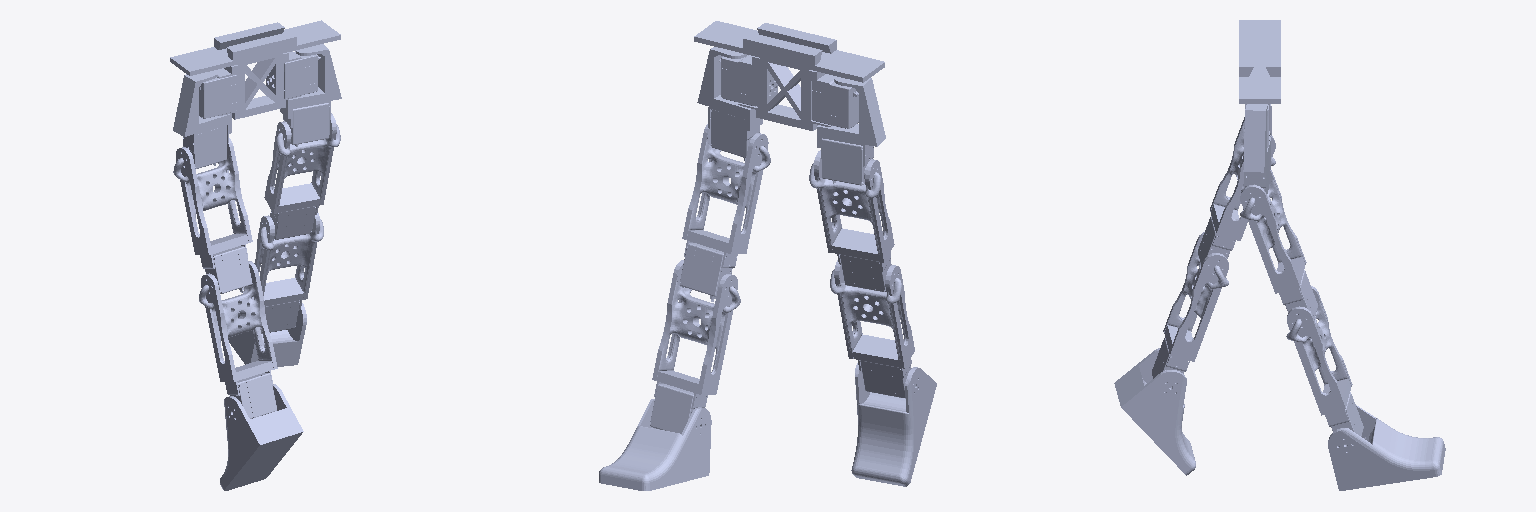
robot.urdf — bi_urdf:
<?xml version='1.0' encoding='utf-8'?>
<robot name="bi_urdf">
  <!-- ================= BASE ================= -->
  <link name="base_link">
    <inertial>
      <origin xyz="0.0567114891561859 0.0849439592220373 0.149421333987205" rpy="0 0 0"/>
      <mass value="0.171395163597277"/>
      <inertia ixx="8.15294272941173E-05" ixy="-2.02031529968215E-08" ixz="5.98391970806169E-12"
               iyy="0.000138818427725874" iyz="1.25115494357392E-20" izz="0.000195580300315273"/>
    </inertial>
    <visual>
      <origin xyz="0 0 0" rpy="0 0 0"/>
      <geometry><mesh filename="package://bi_urdf/meshes/base_link.STL"/></geometry>
      <material name=""><color rgba="0.792156862745098 0.819607843137255 0.933333333333333 1"/></material>
    </visual>
    <collision>
      <origin xyz="0 0 0" rpy="0 0 0"/>
      <geometry><mesh filename="package://bi_urdf/meshes/base_link.STL"/></geometry>
    </collision>
  </link>

  <!-- ================= LEFT LEG ================= -->
  <link name="ll1">
    <inertial>
      <origin xyz="-0.0331301764718445 0.0059934631782641 0.00079947811355896" rpy="0 0 0"/>
      <mass value="0.0590705733476927"/>
      <inertia ixx="1.3308524861968E-05" ixy="2.14063430261469E-06" ixz="-2.99195985855362E-12"
               iyy="1.43799773807184E-05" iyz="-1.21474739180219E-11" izz="2.37886928225187E-05"/>
    </inertial>
    <visual>
      <origin xyz="0 0 0" rpy="0 0 0"/>
      <geometry><mesh filename="package://bi_urdf/meshes/ll1.STL"/></geometry>
      <material name=""><color rgba="0.792156862745098 0.819607843137255 0.933333333333333 1"/></material>
    </visual>
    <collision>
      <origin xyz="0 0 0" rpy="0 0 0"/>
      <geometry><mesh filename="package://bi_urdf/meshes/ll1.STL"/></geometry>
    </collision>
  </link>

  <!-- Left hip -->
  <joint name="cont1" type="revolute">
    <origin xyz="0.11411 -0.1504 0" rpy="1.684 1.5708 0"/>
    <parent link="base_link"/>
    <child link="ll1"/>
    <axis xyz="1 0 0"/>
    <!-- effort +20%, velocity -15% -->
    <limit lower="-0.32" upper="0.32" effort="4.12" velocity="4.60"/>
  </joint>

  <link name="ll2">
    <inertial>
      <origin xyz="0.0778982604545579 -0.00188038436766949 -0.000136280275821715" rpy="0 0 0"/>
      <mass value="0.0795021386782517"/>
      <inertia ixx="2.80103394628434E-05" ixy="-5.07840329373671E-07" ixz="-6.24048642295068E-07"
               iyy="4.79485384385568E-05" iyz="-4.85497821551154E-09" izz="6.96791885207485E-05"/>
    </inertial>
    <visual>
      <origin xyz="0 0 0" rpy="0 0 0"/>
      <geometry><mesh filename="package://bi_urdf/meshes/ll2.STL"/></geometry>
      <material name=""><color rgba="0.792156862745098 0.819607843137255 0.933333333333333 1"/></material>
    </visual>
    <collision>
      <origin xyz="0 0 0" rpy="0 0 0"/>
      <geometry><mesh filename="package://bi_urdf/meshes/ll2.STL"/></geometry>
    </collision>
  </link>

  <!-- Left upper leg (pitch) -->
  <joint name="cont2" type="revolute">
    <origin xyz="-0.0065092 0 0.001448" rpy="3.1416 0.33619 0"/>
    <parent link="ll1"/>
    <child link="ll2"/>
    <axis xyz="0 1 0"/>
    <!-- effort +20%, velocity -15% -->
    <limit lower="0.0" upper="1.2" effort="4.12" velocity="4.79"/>
  </joint>

  <link name="ll3">
    <inertial>
      <origin xyz="0.0778976796340647 -0.00303014713788041 -0.000136385683643853" rpy="0 0 0"/>
      <mass value="0.0795031696493418"/>
      <inertia ixx="2.80107149584798E-05" ixy="-5.07630150300652E-07" ixz="-6.24134776035916E-07"
               iyy="4.79488600662513E-05" iyz="-4.71096969100992E-09" izz="6.96797618128892E-05"/>
    </inertial>
    <visual>
      <origin xyz="0 0 0" rpy="0 0 0"/>
      <geometry><mesh filename="package://bi_urdf/meshes/ll3.STL"/></geometry>
      <material name=""><color rgba="0.792156862745098 0.819607843137255 0.933333333333333 1"/></material>
    </visual>
    <collision>
      <origin xyz="0 0 0" rpy="0 0 0"/>
      <geometry><mesh filename="package://bi_urdf/meshes/ll3.STL"/></geometry>
    </collision>
  </link>

  <!-- Left knee -->
  <joint name="cont3" type="revolute">
    <origin xyz="0.1324 0 0.00094799" rpy="0 0.0053505 0"/>
    <parent link="ll2"/>
    <child link="ll3"/>
    <axis xyz="0 1 0"/>
    <!-- effort +20% (from 6.0), velocity -15% -->
    <limit lower="0.0" upper="1.2" effort="7.2" velocity="5.1"/>
  </joint>

  <link name="ll4">
    <inertial>
      <origin xyz="0.0323728229309788 0.00403307760573293 -0.0259374292242309" rpy="0 0 0"/>
      <mass value="0.148691452005003"/>
      <inertia ixx="0.000141408471608347" ixy="-7.35013992628706E-11" ixz="1.36402639413287E-05"
               iyy="0.000121661823888846" iyz="4.44078269580986E-11" izz="6.3815096631629E-05"/>
    </inertial>
    <visual>
      <origin xyz="0 0 0" rpy="0 0 0"/>
      <geometry><mesh filename="package://bi_urdf/meshes/ll4.STL"/></geometry>
      <material name=""><color rgba="0.792156862745098 0.819607843137255 0.933333333333333 1"/></material>
    </visual>

    <!-- Flat sole collision box -->
    <collision>
      <origin xyz="0.02 0.0 -0.01" rpy="0 0 0"/>
      <geometry><box size="0.12 0.06 0.02"/></geometry>
    </collision>
  </link>

  <!-- Left ankle -->
  <joint name="cont4" type="revolute">
    <origin xyz="0.1324 0 0" rpy="-3.1416 0.12441 0.1"/>
    <parent link="ll3"/>
    <child link="ll4"/>
    <axis xyz="0 1 0"/>
    <!-- effort +20%, velocity -15% -->
    <limit lower="-0.5" upper="0.7" effort="4.8" velocity="3.4"/>
  </joint>

  <!-- ================= RIGHT LEG ================= -->
  <link name="rf1">
    <inertial>
      <origin xyz="-0.0331301764718445 0.00599346317826412 0.000799478113558877" rpy="0 0 0"/>
      <mass value="0.0590705733476927"/>
      <inertia ixx="1.3308524861968E-05" ixy="2.14063430261468E-06" ixz="-2.99195985866666E-12"
               iyy="1.43799773807184E-05" iyz="-1.2147473906587E-11" izz="2.37886928225187E-05"/>
    </inertial>
    <visual>
      <origin xyz="0 0 0" rpy="0 0 0"/>
      <geometry><mesh filename="package://bi_urdf/meshes/rf1.STL"/></geometry>
      <material name=""><color rgba="0.792156862745098 0.819607843137255 0.933333333333333 1"/></material>
    </visual>
    <collision>
      <origin xyz="0 0 0" rpy="0 0 0"/>
      <geometry><mesh filename="package://bi_urdf/meshes/rf1.STL"/></geometry>
    </collision>
  </link>

  <!-- Right hip -->
  <joint name="cont5" type="revolute">
    <origin xyz="-0.00068189 -0.1503 0" rpy="-1.684 1.5708 0"/>
    <parent link="base_link"/>
    <child link="rf1"/>
    <axis xyz="1 0 0"/>
    <!-- effort +20%, velocity -15% -->
    <limit lower="-0.52" upper="0.52" effort="4.10" velocity="4.60"/>
  </joint>

  <link name="rf2">
    <inertial>
      <origin xyz="0.0778985515392482 -0.00288004846033524 -0.000136476683728737" rpy="0 0 0"/>
      <mass value="0.0795019689262471"/>
      <inertia ixx="2.80103488233918E-05" ixy="-5.07353683898513E-07" ixz="-6.24315510033273E-07"
               iyy="4.79484668398027E-05" iyz="-4.92358754028956E-09" izz="6.96791217969134E-05"/>
    </inertial>
    <visual>
      <origin xyz="0 0 0" rpy="0 0 0"/>
      <geometry><mesh filename="package://bi_urdf/meshes/rf2.STL"/></geometry>
      <material name=""><color rgba="0.792156862745098 0.819607843137255 0.933333333333333 1"/></material>
    </visual>
    <collision>
      <origin xyz="0 0 0" rpy="0 0 0"/>
      <geometry><mesh filename="package://bi_urdf/meshes/rf2.STL"/></geometry>
    </collision>
  </link>

  <!-- Right upper leg (pitch) -->
  <joint name="cont6" type="revolute">
    <origin xyz="-0.0065092 0 0.001448" rpy="3.1416 0.33619 0"/>
    <parent link="rf1"/>
    <child link="rf2"/>
    <axis xyz="0 1 0"/>
    <!-- effort +20%, velocity -15% -->
    <limit lower="0.0" upper="1.2" effort="4.12" velocity="4.79"/>
  </joint>

  <link name="rf3">
    <inertial>
      <origin xyz="0.0778986419083725 -0.0040304270423848 -0.000136464415692622" rpy="0 0 0"/>
      <mass value="0.0795017739594857"/>
      <inertia ixx="2.80102442958975E-05" ixy="-5.08144435641516E-07" ixz="-6.24292753533907E-07"
               iyy="4.79482686237526E-05" iyz="-4.58116491178416E-09" izz="6.96787760982269E-05"/>
    </inertial>
    <visual>
      <origin xyz="0 0 0" rpy="0 0 0"/>
      <geometry><mesh filename="package://bi_urdf/meshes/rf3.STL"/></geometry>
      <material name=""><color rgba="0.792156862745098 0.819607843137255 0.933333333333333 1"/></material>
    </visual>
    <collision>
      <origin xyz="0 0 0" rpy="0 0 0"/>
      <geometry><mesh filename="package://bi_urdf/meshes/rf3.STL"/></geometry>
    </collision>
  </link>

  <!-- Right knee -->
  <joint name="cont7" type="revolute">
    <origin xyz="0.1324 0 0.00094799" rpy="0 0.0053505 0"/>
    <parent link="rf2"/>
    <child link="rf3"/>
    <axis xyz="0 1 0"/>
    <!-- effort +20% (from 6.0), velocity -15% -->
    <limit lower="0.0" upper="-1.2" effort="7.2" velocity="5.1"/>
  </joint>

  <link name="rf4">
    <inertial>
      <origin xyz="0.0323727969942671 -0.00503310259820185 -0.0259372246375299" rpy="0 0 0"/>
      <mass value="0.148690566734215"/>
      <inertia ixx="0.000141406802440884" ixy="-8.86260460081181E-11" ixz="1.36400187170798E-05"
               iyy="0.000121660404134023" iyz="5.78555238334605E-11" izz="6.38148197232088E-05"/>
    </inertial>
    <visual>
      <origin xyz="0 0 0" rpy="0 0 0"/>
      <geometry><mesh filename="package://bi_urdf/meshes/rf4.STL"/></geometry>
      <material name=""><color rgba="0.792156862745098 0.819607843137255 0.933333333333333 1"/></material>
    </visual>

    <!-- Flat sole collision box -->
    <collision>
      <origin xyz="0.02 0.0 -0.01" rpy="0 0 0"/>
      <geometry><box size="0.12 0.06 0.02"/></geometry>
    </collision>
  </link>

  <!-- Right ankle -->
  <joint name="cont8" type="revolute">
    <origin xyz="0.1324 0 0" rpy="-6.2832 -0.5441 0"/>
    <parent link="rf3"/>
    <child link="rf4"/>
    <axis xyz="0 1 0"/>
    <!-- effort +20%, velocity -15% -->
    <limit lower="-0.5" upper="0.7" effort="4.8" velocity="3.4"/>
  </joint>
</robot>

--- What the picture shows (computed from the rendered views, not written in the file) ---
The picture shows the robot from 3 angles, left to right: view 1: azimuth 30°, elevation 25°; view 2: azimuth 150°, elevation 25°; view 3: azimuth 270°, elevation 25°; orthographic projection.
Model bi_urdf with 9 links and 8 joints (8 revolute), rooted at base_link, posed all joints at 0.
Visible links, largest first — view 1: base_link, rf2, rf3, ll2, rf4, ll3, rf1, ll1, ll4; view 2: base_link, ll2, ll3, rf4, rf2, rf3, ll4, rf1, ll1; view 3: ll4, rf4, ll2, ll3, rf3, base_link, rf2, ll1.
Link boxes in pixels (box(x1,y1,x2,y2)): base_link: box(170, 20, 340, 119); rf2: box(173, 138, 252, 293); rf3: box(199, 261, 277, 418); ll2: box(264, 113, 340, 239); rf4: box(220, 384, 303, 490); ll3: box(254, 213, 323, 333); rf1: box(173, 70, 231, 168); ll1: box(280, 44, 341, 146); ll4: box(228, 303, 306, 366); base_link: box(694, 21, 884, 130); ll2: box(680, 124, 770, 301); ll3: box(650, 260, 740, 433); rf4: box(851, 363, 936, 486); rf2: box(809, 150, 894, 291); rf3: box(830, 260, 914, 398); ll4: box(599, 399, 711, 490); rf1: box(817, 76, 885, 185); ll1: box(697, 47, 762, 160); ll4: box(1328, 405, 1445, 490); rf4: box(1114, 348, 1195, 475); ll2: box(1240, 170, 1317, 319); ll3: box(1286, 286, 1363, 444); rf3: box(1152, 232, 1228, 387); base_link: box(1239, 20, 1280, 147); rf2: box(1198, 117, 1275, 265); ll1: box(1243, 104, 1270, 193).
Size in the robot's own frame: 0.198 by 0.3151 by 0.4604 metres.
9 mesh visuals loaded from 9 distinct referenced files (9 binary STL).
